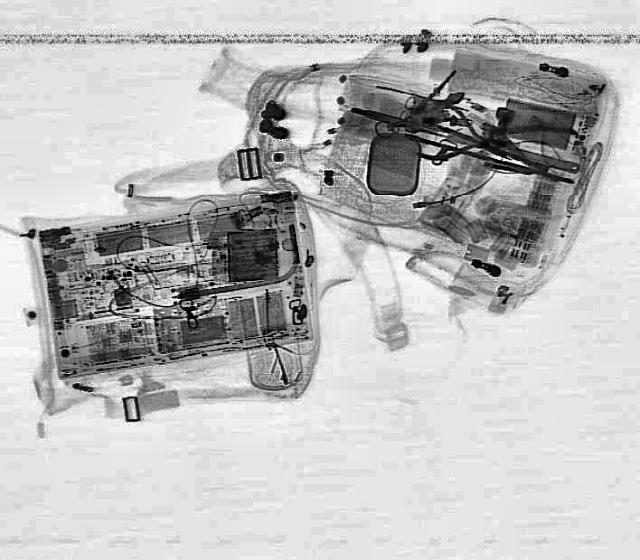Pliers: (468, 103, 596, 185), (410, 102, 518, 176)
